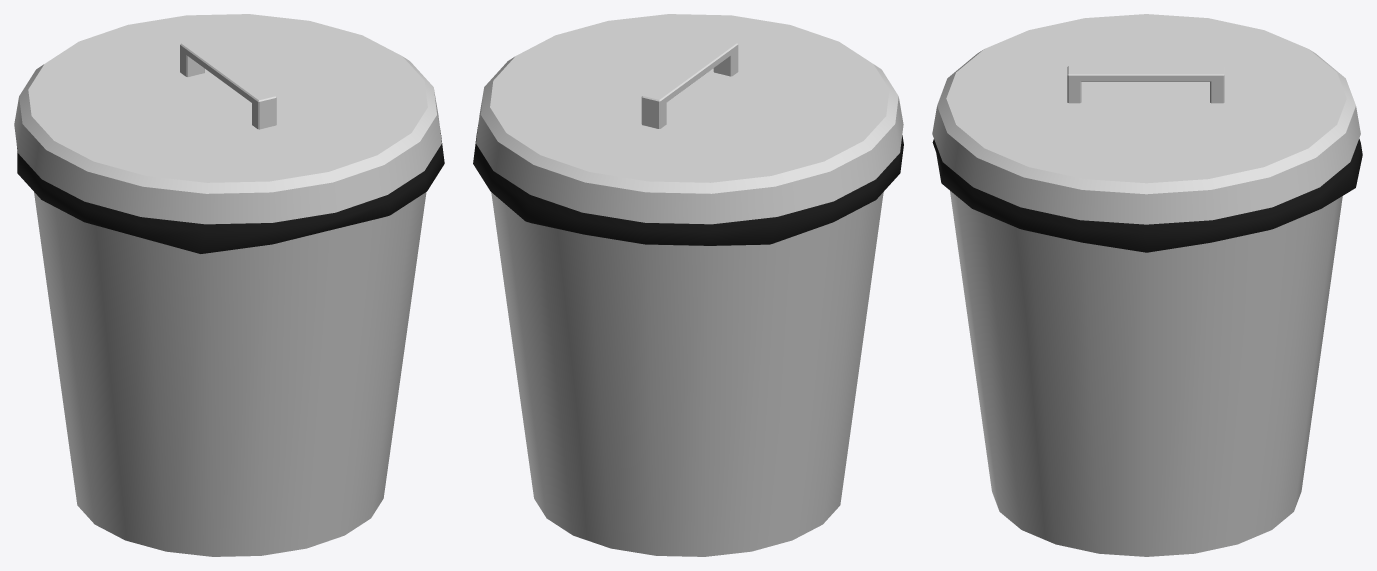
The model's file is Trashcan (updated).fbx.
3 renders of one model, left to right at view 1: azimuth 30°, elevation 25°; view 2: azimuth 150°, elevation 25°; view 3: azimuth 270°, elevation 25°, orthographic.
Parts seen in each view (by area): view 1: Trashcan, Lid; view 2: Trashcan, Lid; view 3: Trashcan, Lid.
Part boxes in pixels (x1,y1,x2,y2): Trashcan: [17, 130, 444, 556]; Lid: [14, 14, 441, 224]; Trashcan: [473, 125, 903, 556]; Lid: [476, 14, 903, 224]; Trashcan: [932, 138, 1362, 556]; Lid: [932, 14, 1360, 224].
Bounding box in the file's own units: 247 × 265 × 246.
